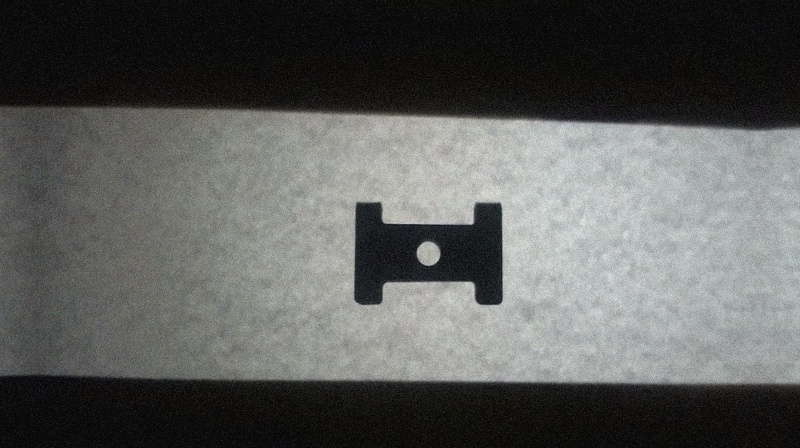O002: (350, 199, 505, 308)
